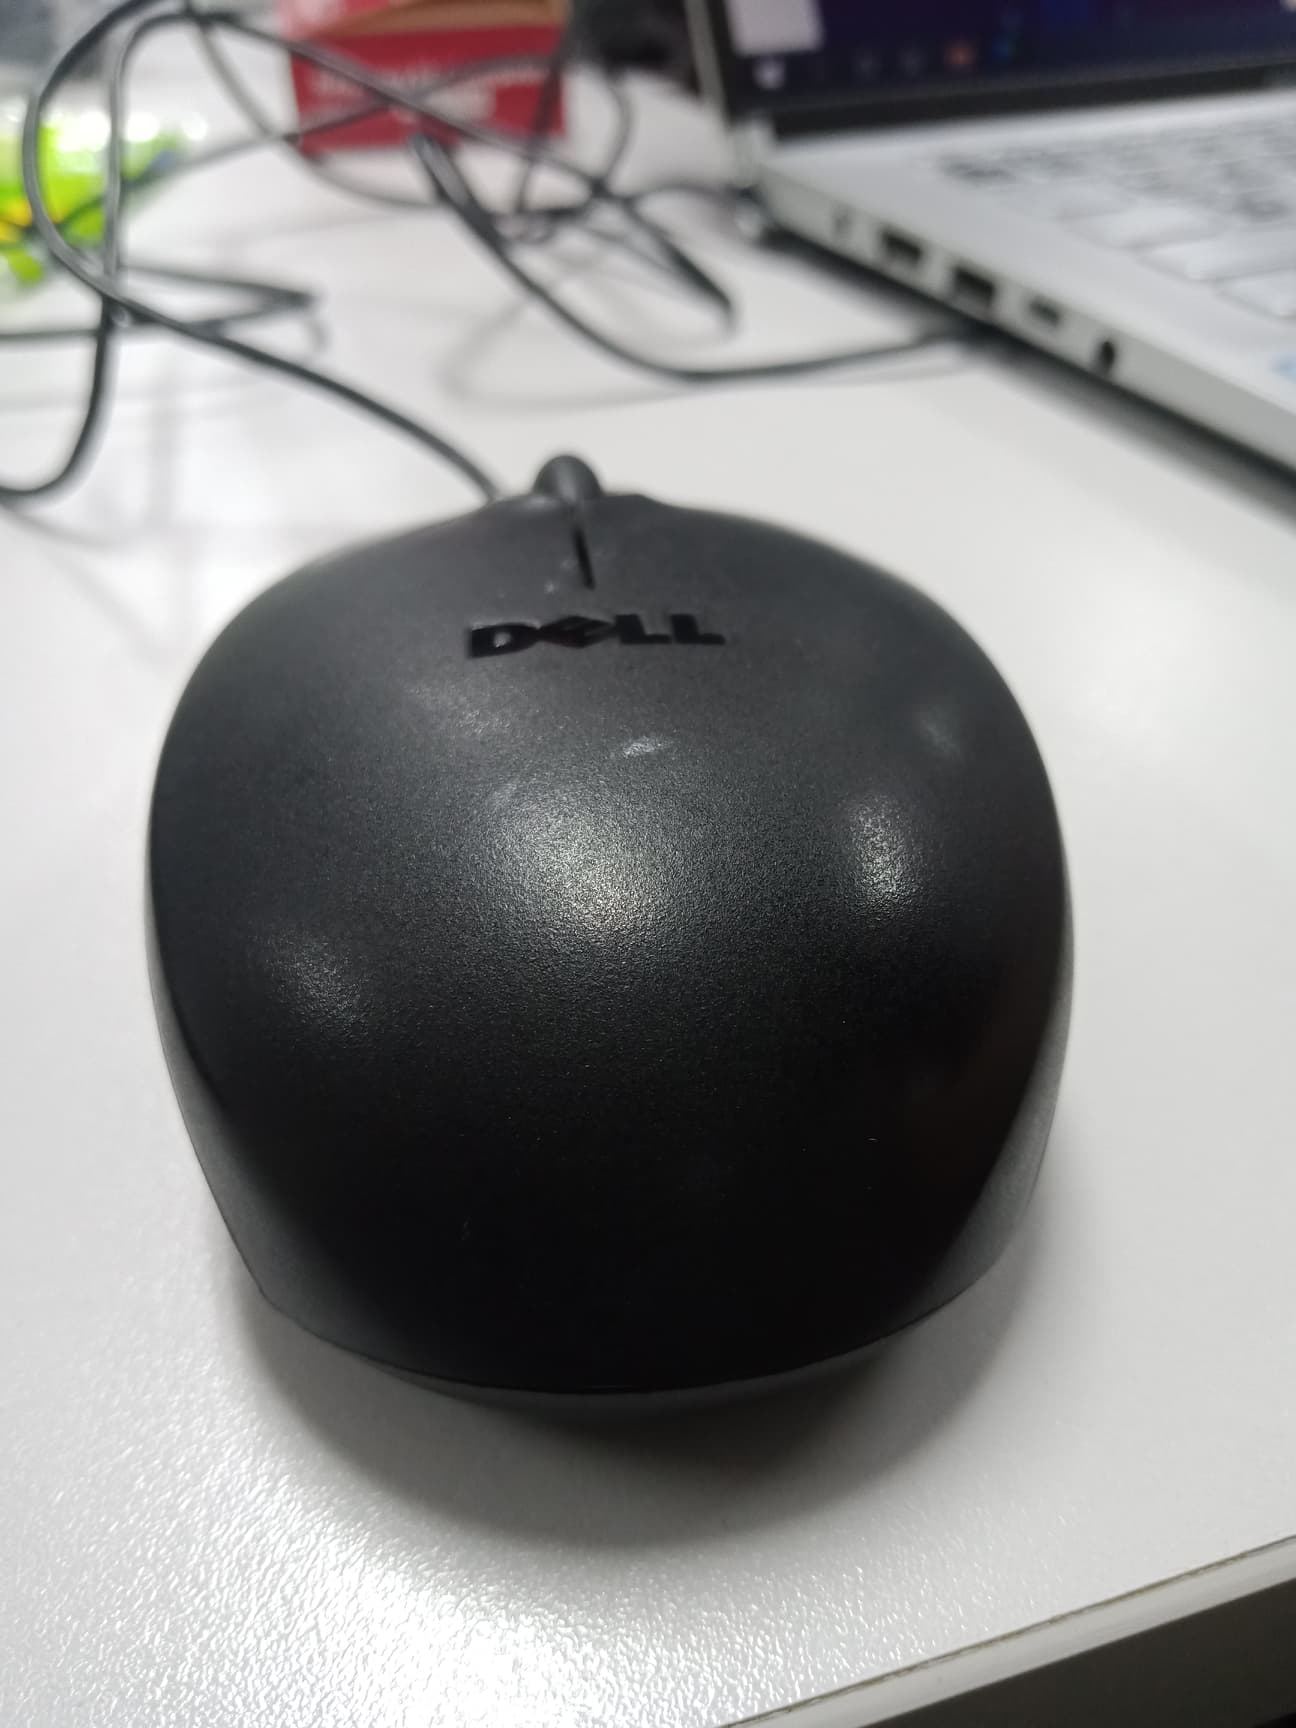mouse: (143, 454, 1081, 1407)
